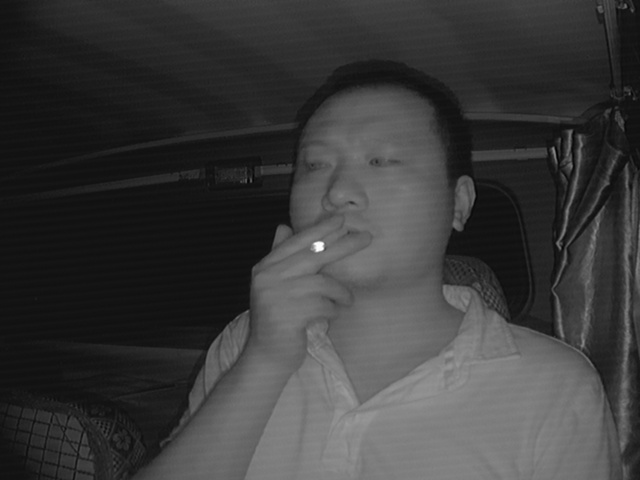hand: (240, 212, 365, 352)
